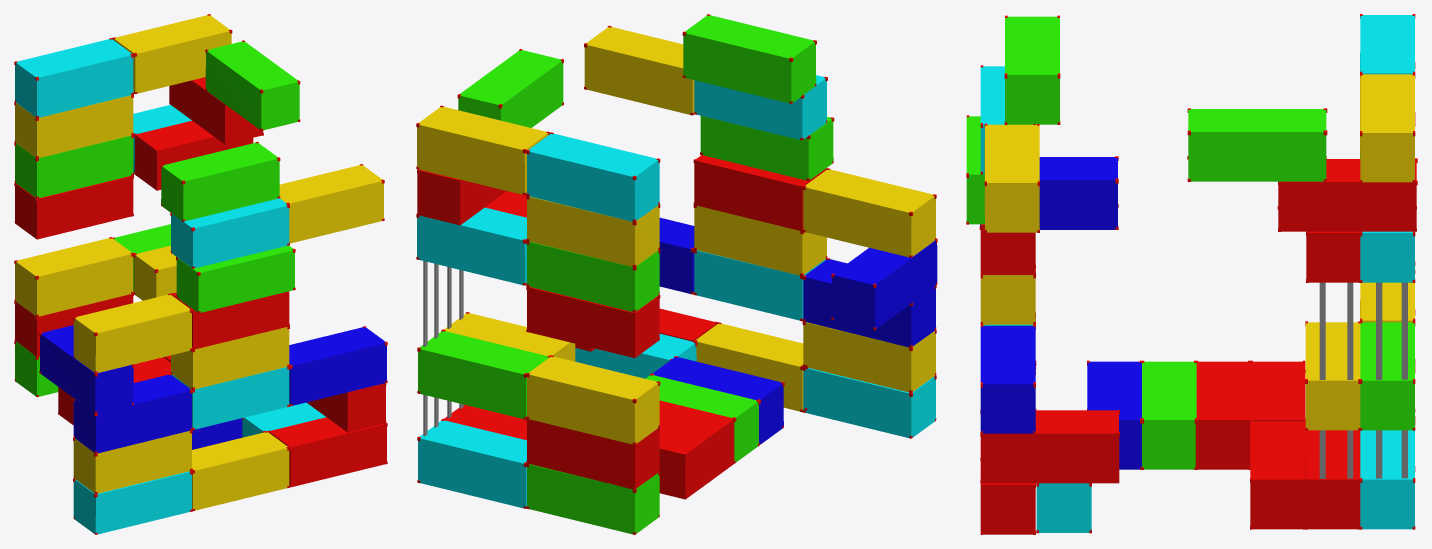
The model's file is ParentPart11FBX.FBX.
The picture shows the model from 3 angles, left to right: view 1: azimuth 30°, elevation 25°; view 2: azimuth 150°, elevation 25°; view 3: azimuth 270°, elevation 25°; orthographic projection. The views are drawn at different scales.
Visible parts, largest first — view 1: ParentPart11; view 2: ParentPart11; view 3: ParentPart11.
Boxes of the visible parts, left/top/right/bottom form: ParentPart11: left=14, top=14, right=387, bottom=534; ParentPart11: left=416, top=14, right=937, bottom=534; ParentPart11: left=966, top=14, right=1417, bottom=534.
Size of the model in its own units: 6.23 by 6.7 by 6.57.
